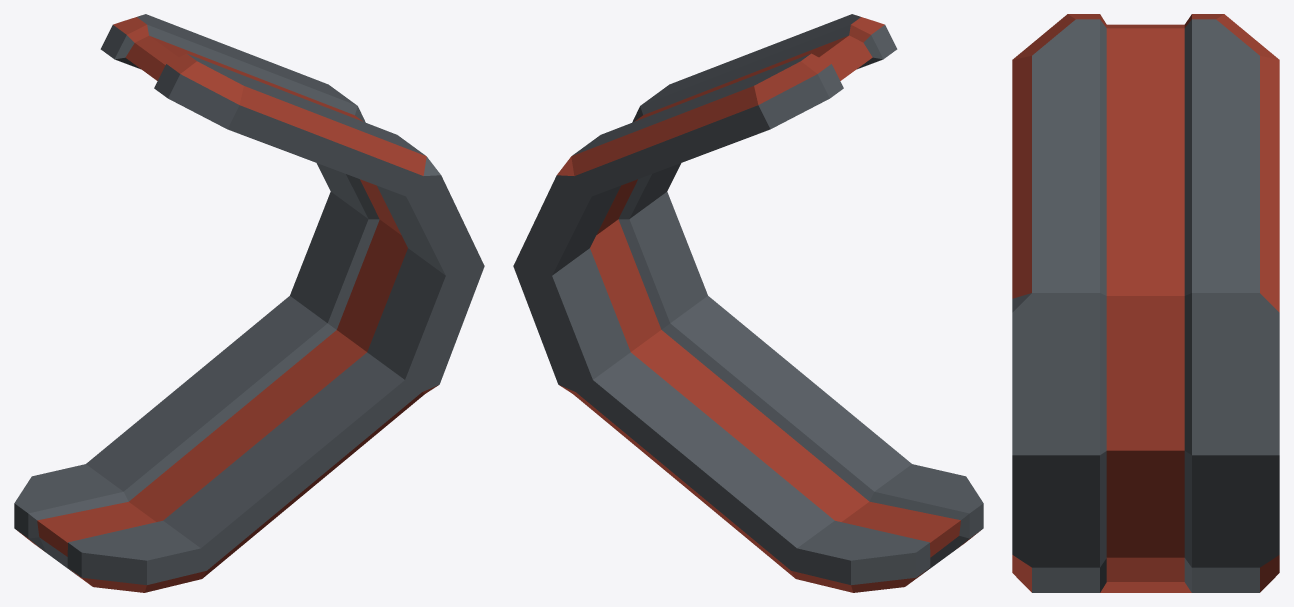
File: Mothership_02_Thrust_Frame_Red.fbx
3 renders of one model, left to right at view 1: azimuth 30°, elevation 25°; view 2: azimuth 150°, elevation 25°; view 3: azimuth 270°, elevation 25°, orthographic. The views are drawn at different scales.
Visible parts, largest first — view 1: Mothership_02_Thrust_Frame_Red; view 2: Mothership_02_Thrust_Frame_Red; view 3: Mothership_02_Thrust_Frame_Red.
Part boxes in pixels (left/top/right/bottom): Mothership_02_Thrust_Frame_Red: left=14, top=14, right=484, bottom=592; Mothership_02_Thrust_Frame_Red: left=513, top=14, right=983, bottom=592; Mothership_02_Thrust_Frame_Red: left=1012, top=14, right=1279, bottom=592.
Size of the model in its own units: 373 by 471 by 196.
Materials: 1 (1 with a texture image).
